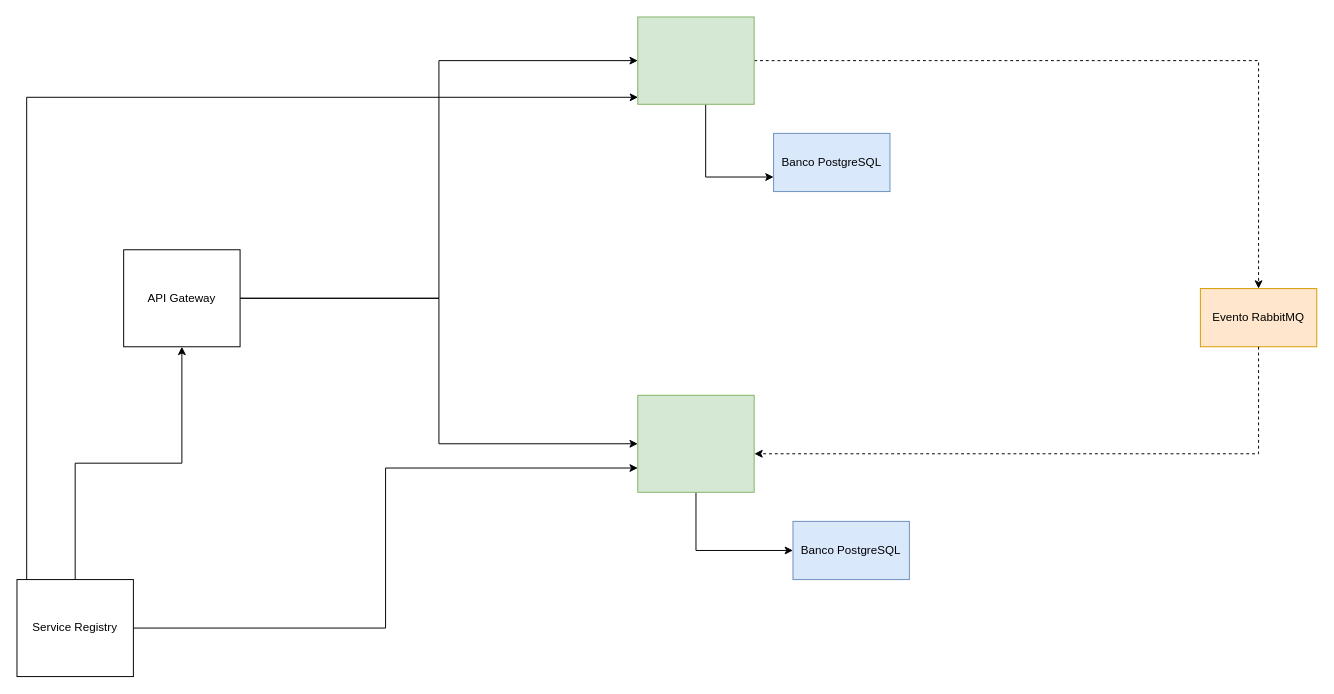
The diagram is 1334 pixels wide and 694 high, and some of its shapes have lost their labels. The box of each missing label's shape, as (x1, y1, x2, y2) in pixels:
API Notificação: (637, 394, 754, 492)
API Produtos: (637, 16, 754, 104)
